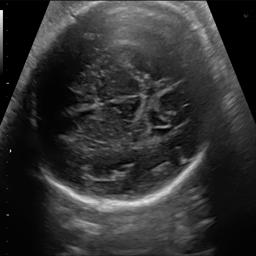normal: (27, 5, 219, 211)
